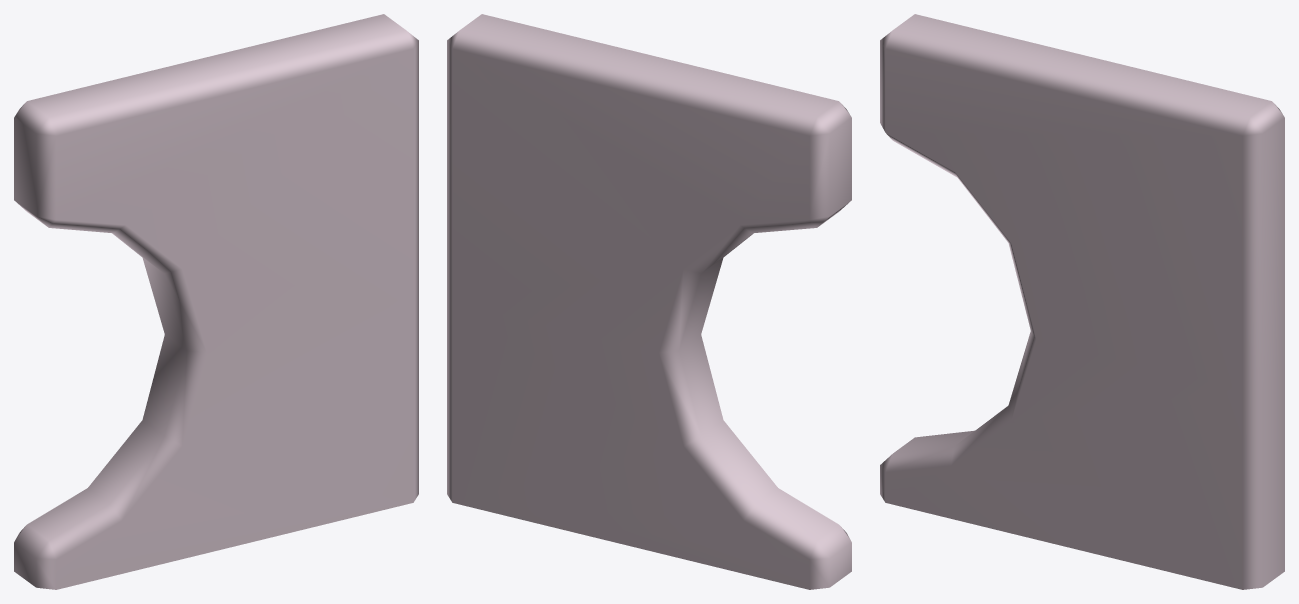
Rendered from mod_sc_roma_001_ar02_prop_004.FBX.
The picture shows the model from 3 angles, left to right: view 1: azimuth 30°, elevation 25°; view 2: azimuth 150°, elevation 25°; view 3: azimuth 330°, elevation 25°; orthographic projection.
Visible parts, largest first — view 1: mod_sc_roma_001_ar02_prop_004; view 2: mod_sc_roma_001_ar02_prop_004; view 3: mod_sc_roma_001_ar02_prop_004.
Boxes of the visible parts, x1,y1,x2,y2 form: mod_sc_roma_001_ar02_prop_004: (14, 14, 418, 589); mod_sc_roma_001_ar02_prop_004: (447, 14, 851, 589); mod_sc_roma_001_ar02_prop_004: (880, 14, 1284, 589).
Size of what is drawn, in the model's own units: 600 by 700 by 100.
